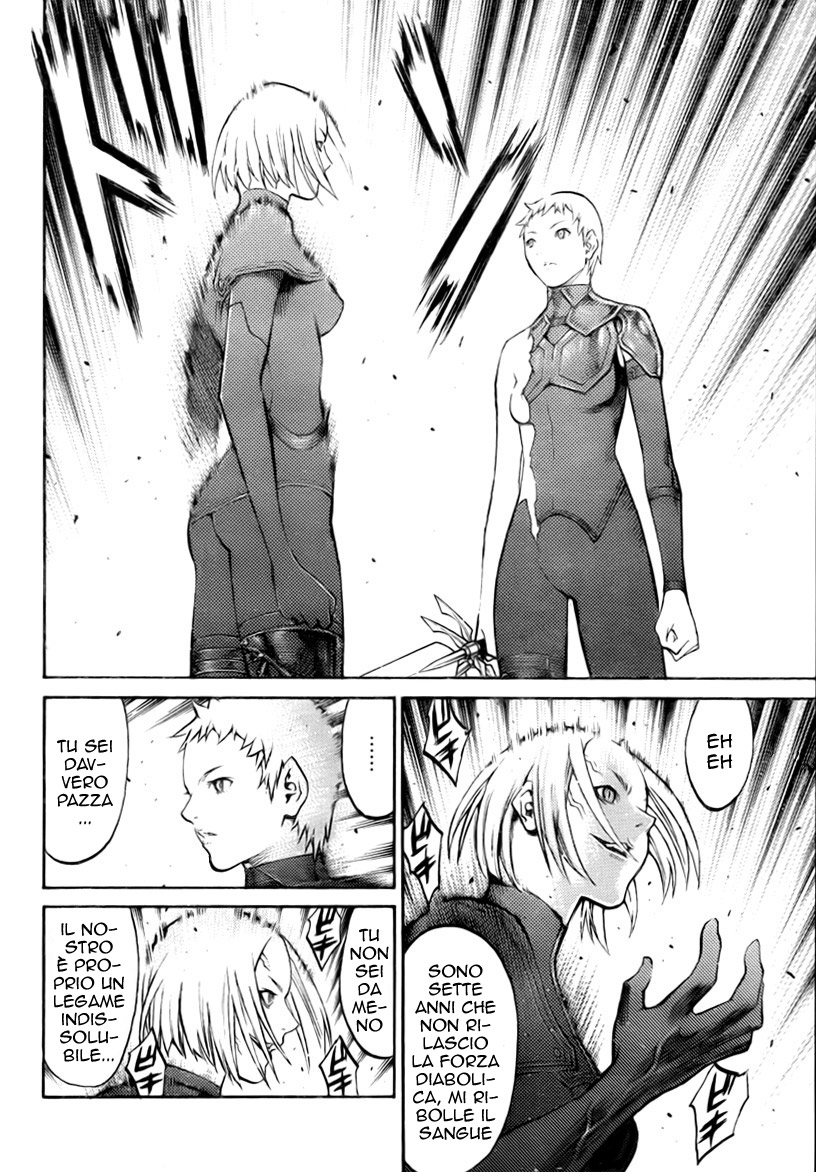Baloon: (404, 923, 518, 1172), (44, 910, 135, 1089), (44, 694, 126, 862), (337, 899, 392, 1055), (685, 690, 754, 810), (338, 698, 394, 817)
Vignetta: (44, 1, 816, 674), (397, 698, 813, 1172), (40, 901, 394, 1096), (46, 698, 394, 890)
